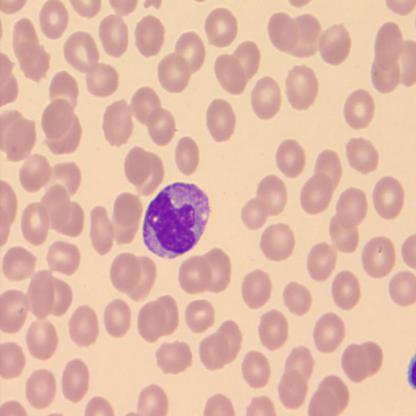Monocyte: (141, 180, 212, 260)
